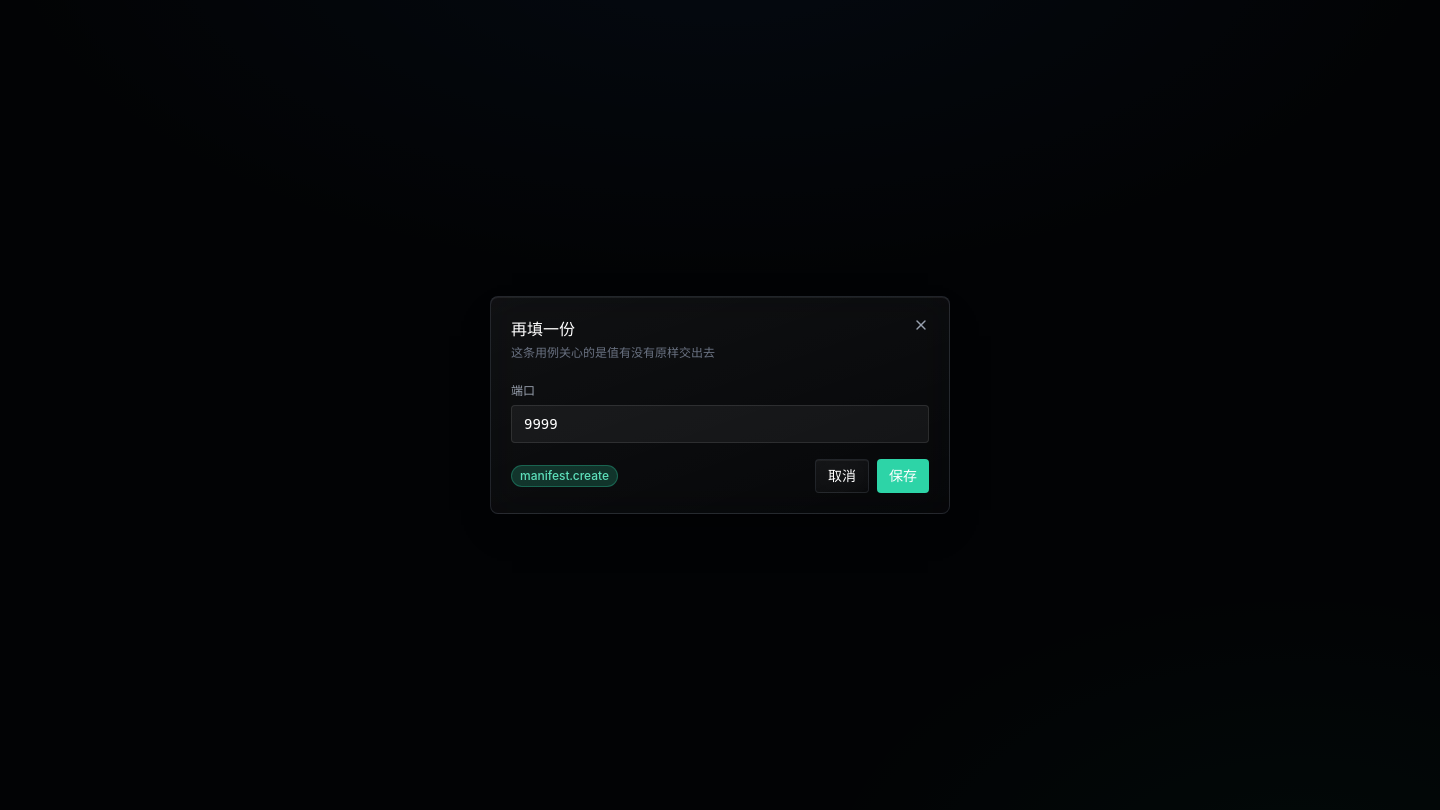
通用参数表单 › 提交失败时显示后端给的原因，且不关闭表单
Click the button "保存" at point(903, 476), box [877, 459, 929, 493]
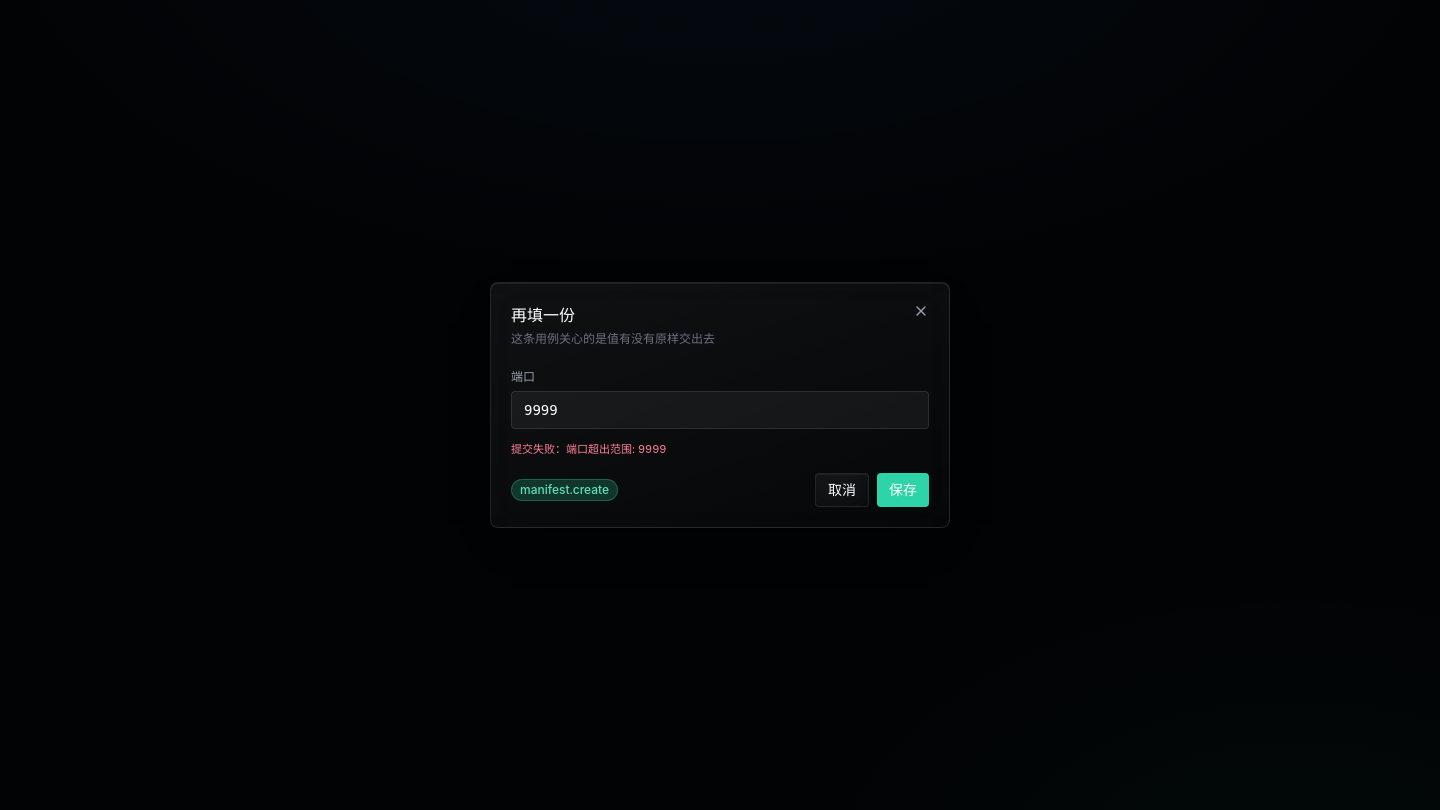
Expected: the text "提交失败：端口超出范围: 9999" is shown, [511, 442, 666, 456]
